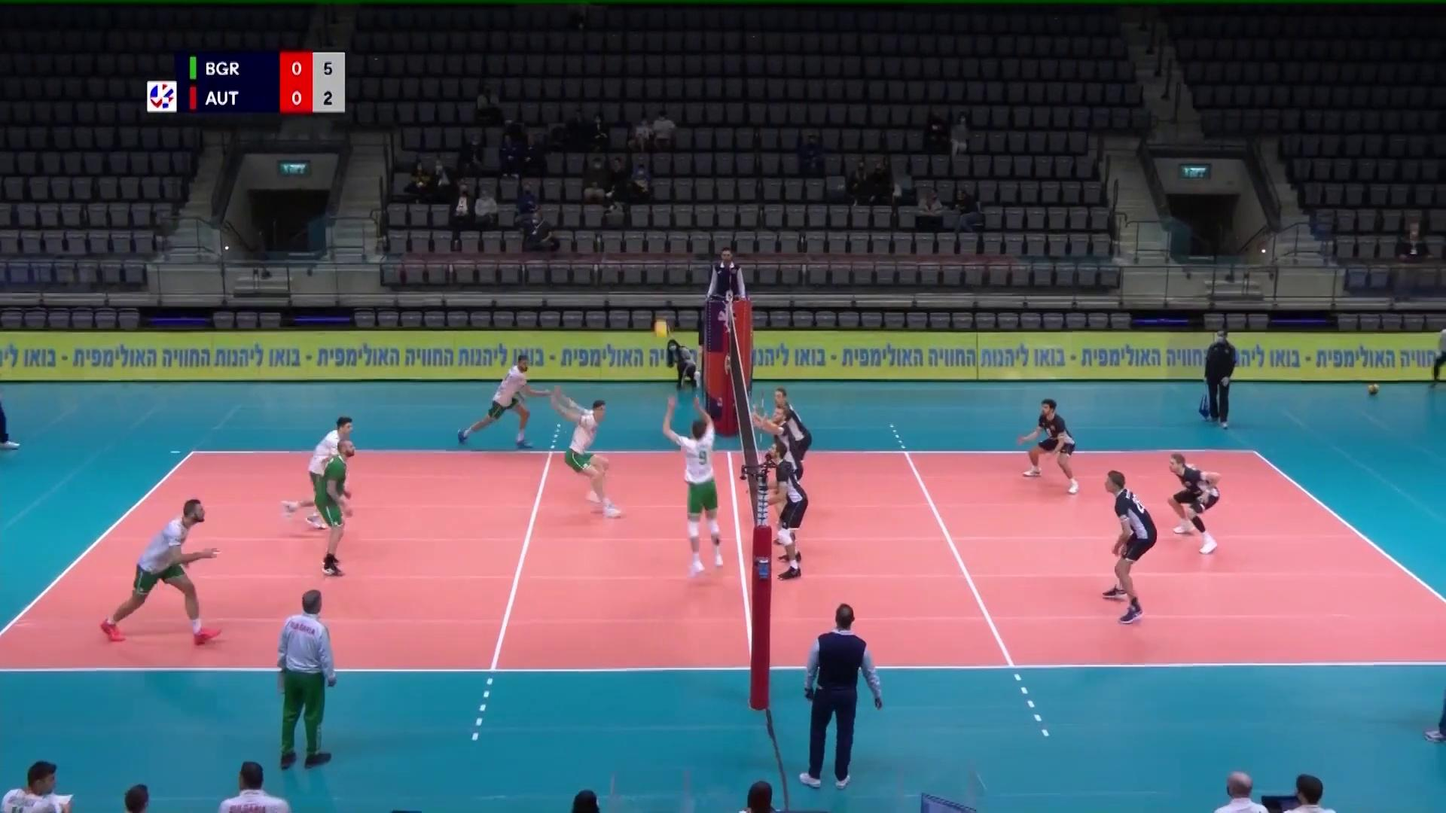ball: (653, 320, 669, 339)
